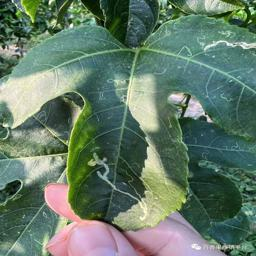liriomyza: (87, 151, 148, 221), (202, 37, 256, 56)
